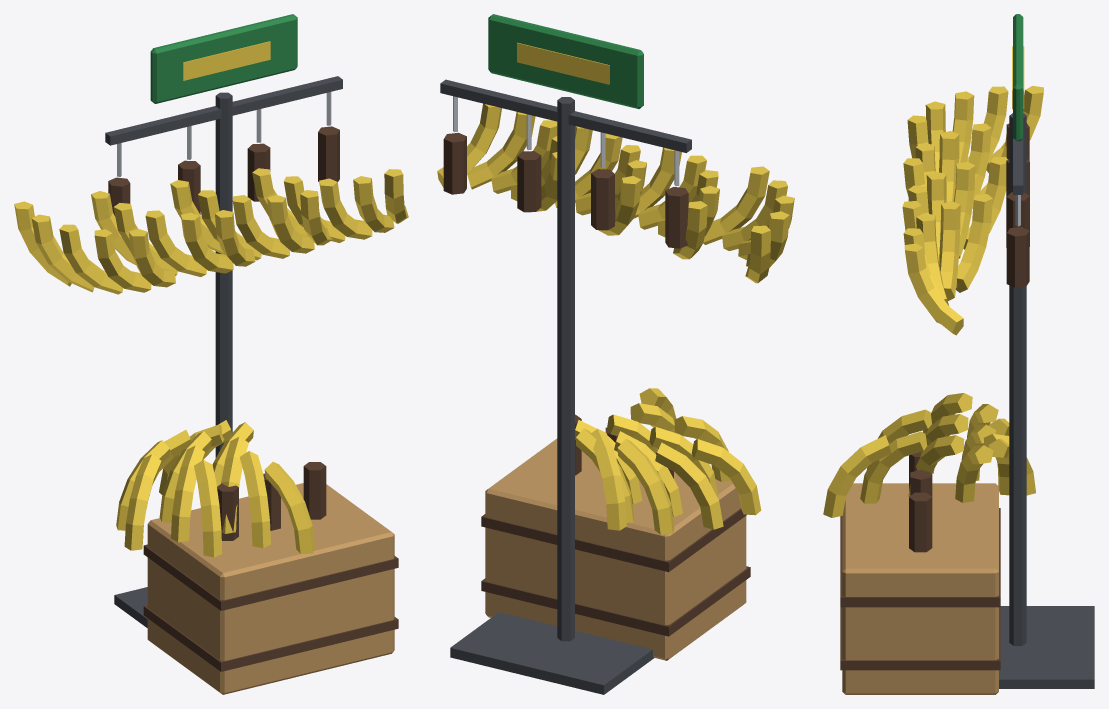
Rendered from Banana_Stand_Hanging.glb.
3 renders of one model, left to right at view 1: azimuth 30°, elevation 25°; view 2: azimuth 150°, elevation 25°; view 3: azimuth 270°, elevation 25°, orthographic. The views are drawn at different scales.
Visible parts, largest first — view 1: Banana_Stand_Hanging; view 2: Banana_Stand_Hanging; view 3: Banana_Stand_Hanging.
Part boxes in pixels (box(x1,y1,x2,y2)): Banana_Stand_Hanging: box(14, 14, 408, 694); Banana_Stand_Hanging: box(437, 14, 794, 694); Banana_Stand_Hanging: box(823, 14, 1094, 694).
Bounding box in the file's own units: 1.21 × 1.91 × 0.7795.
Materials: 1 (1 with a texture image).
